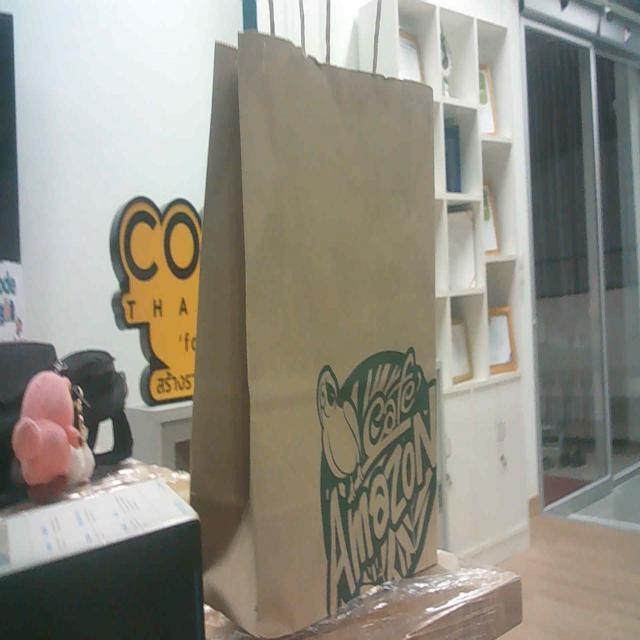bag: (182, 4, 470, 635)
